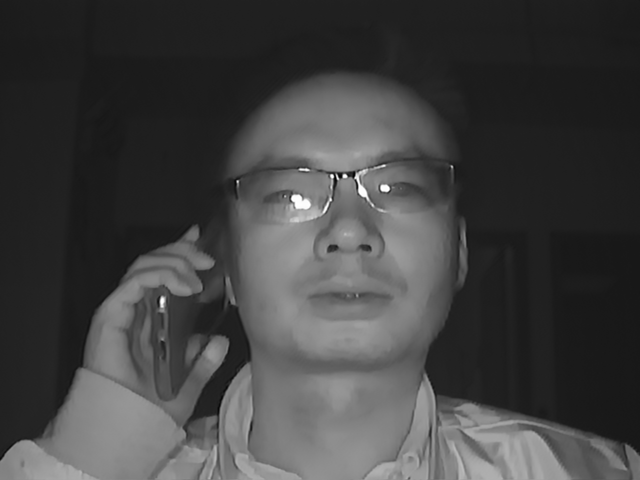hand: (81, 238, 227, 406)
